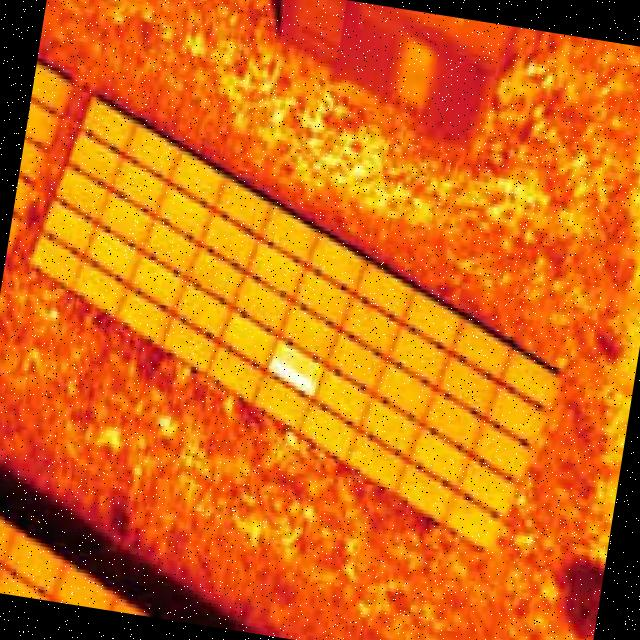Hotspot: (262, 352, 320, 402), (276, 340, 302, 360)
